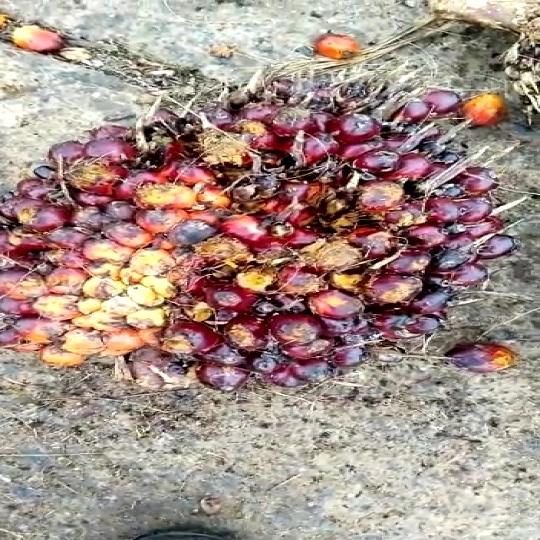masak: (0, 62, 540, 395)
